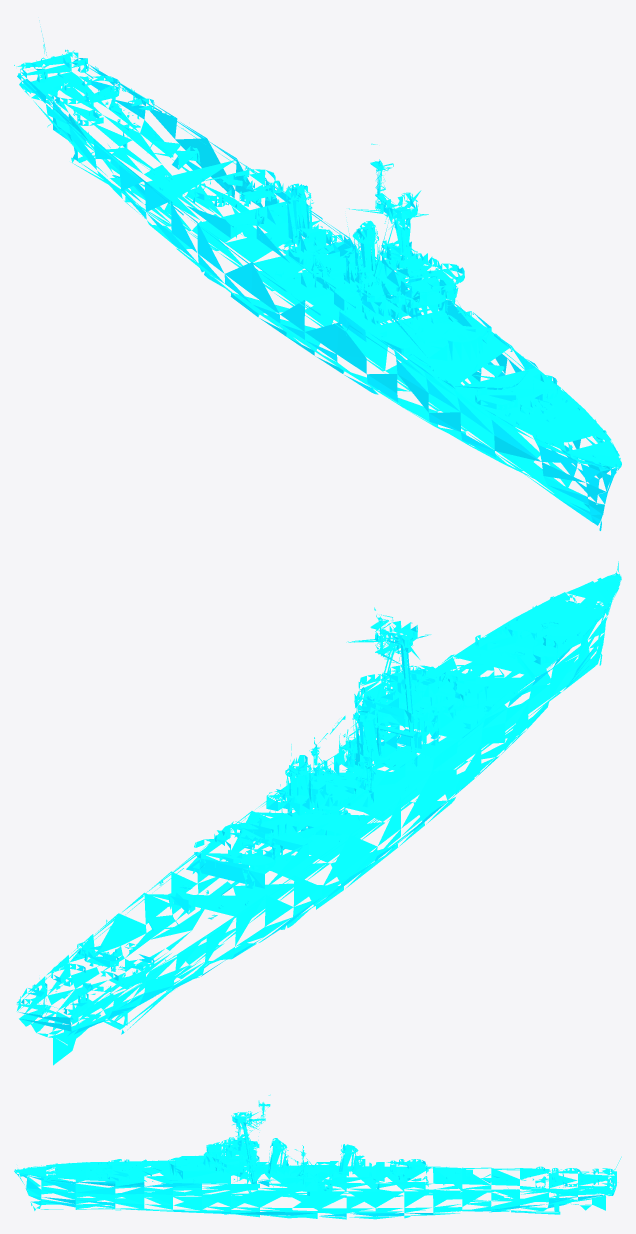
File: Montcalm.glb
3 views of the same model, one above another, from view 1: azimuth 30°, elevation 25°; view 2: azimuth 150°, elevation 25°; view 3: azimuth 270°, elevation 25° (orthographic). The views are drawn at different scales.
Bounding box in the file's own units: 1.22 × 2.54 × 12.06.
